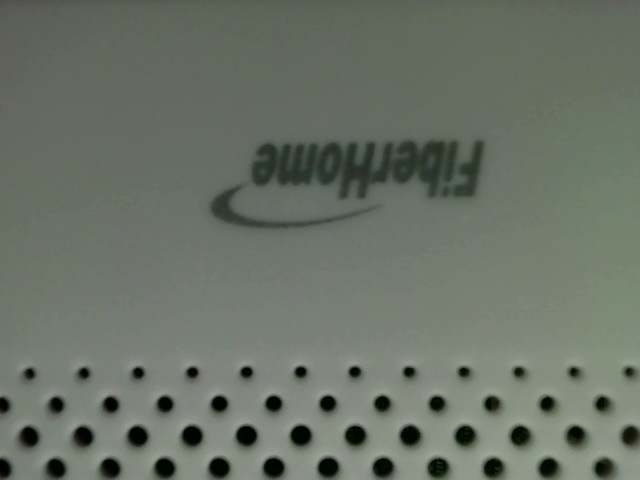AI_FiberHome: (199, 129, 501, 242)
